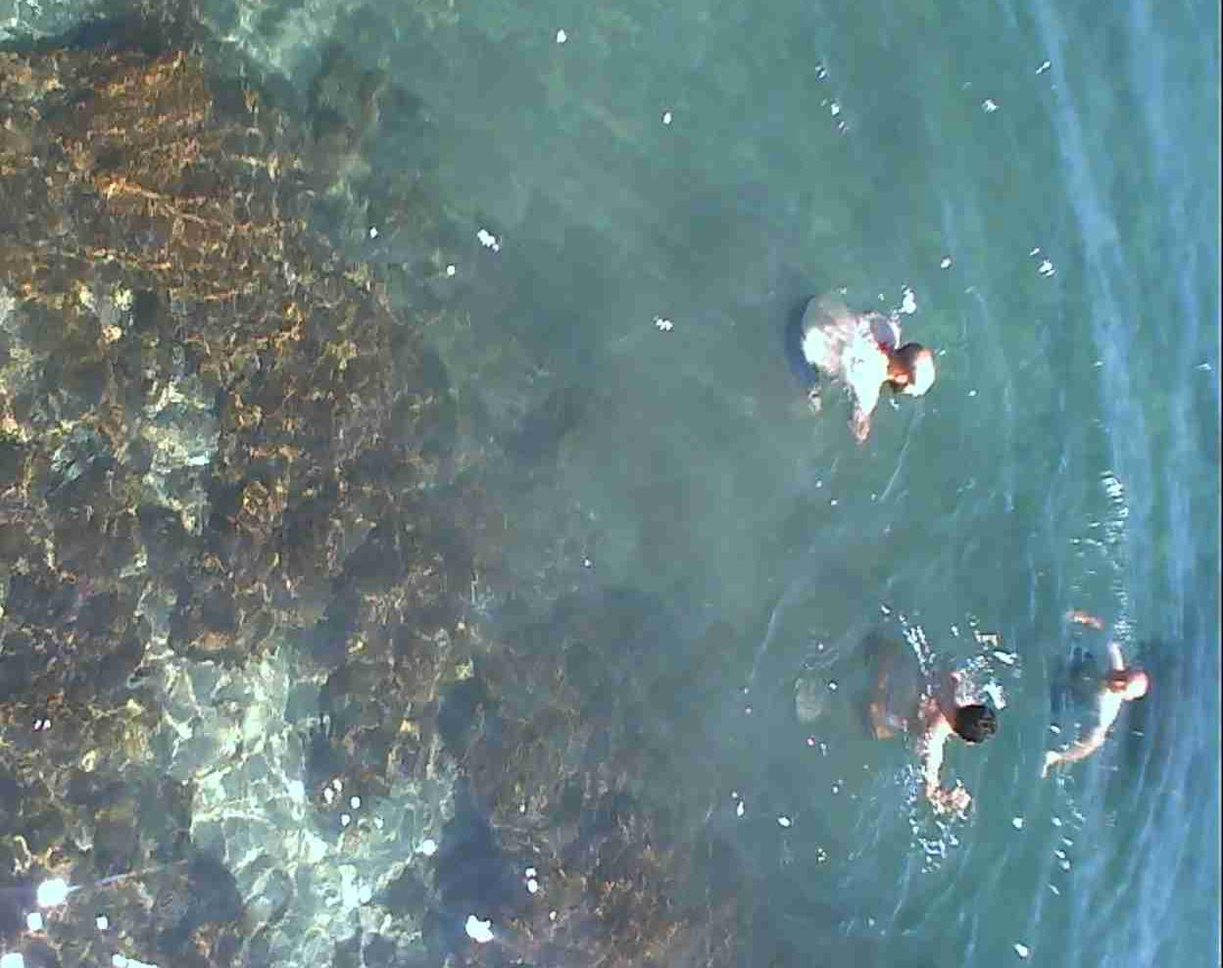human: (778, 282, 936, 450), (875, 623, 997, 830), (1049, 600, 1145, 789)
